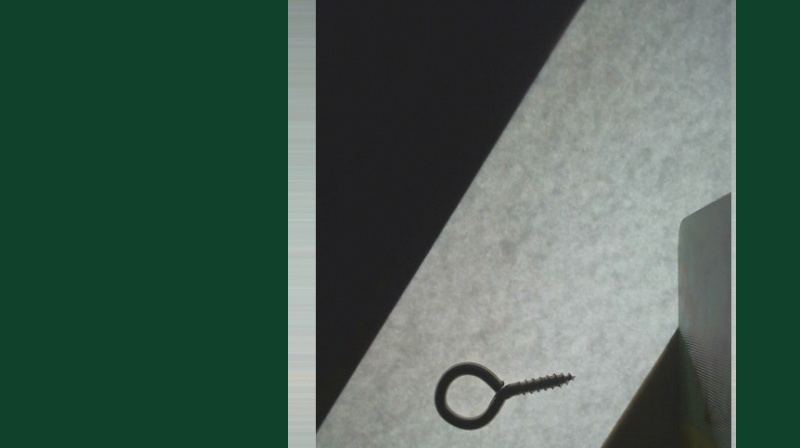O001: (431, 352, 578, 433)
